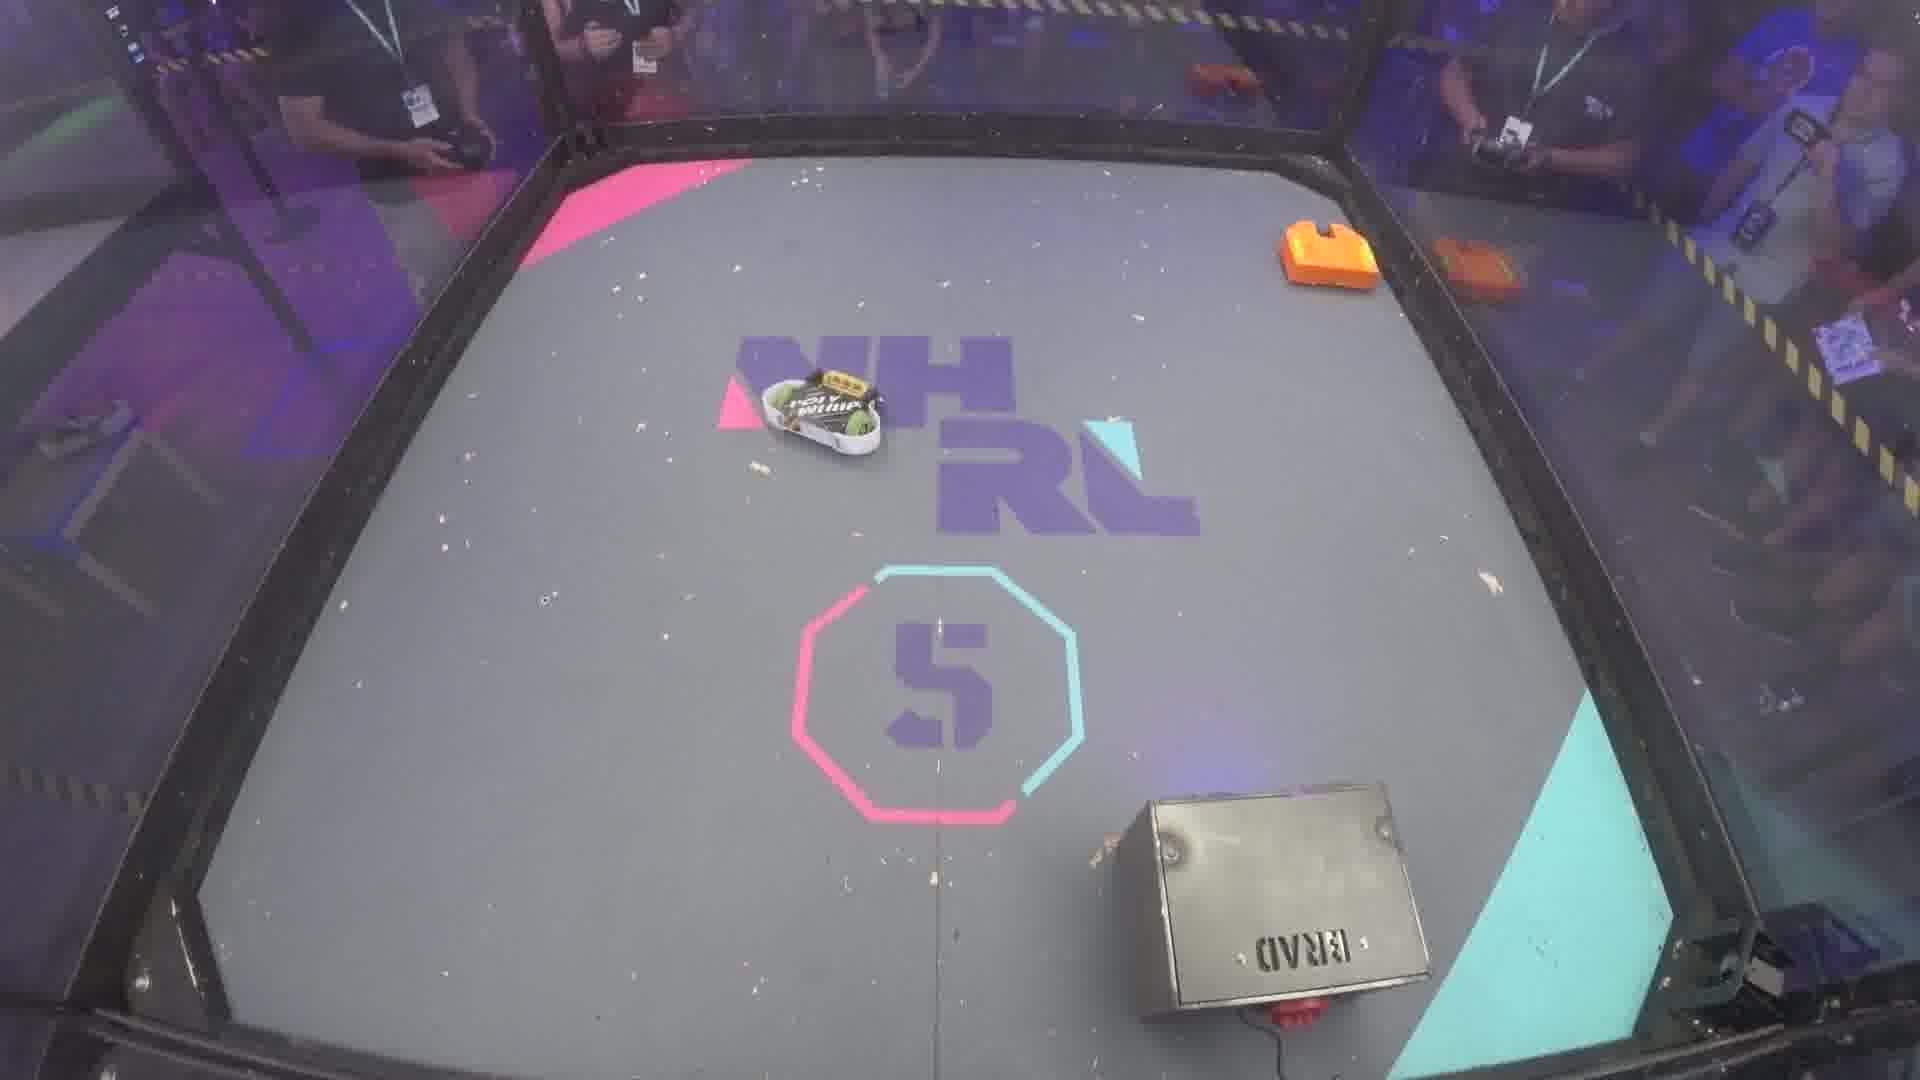belt: (1234, 1007, 1287, 1079)
combatbot: (762, 368, 889, 460), (1275, 214, 1385, 299)
housebot: (1110, 785, 1436, 1022)
